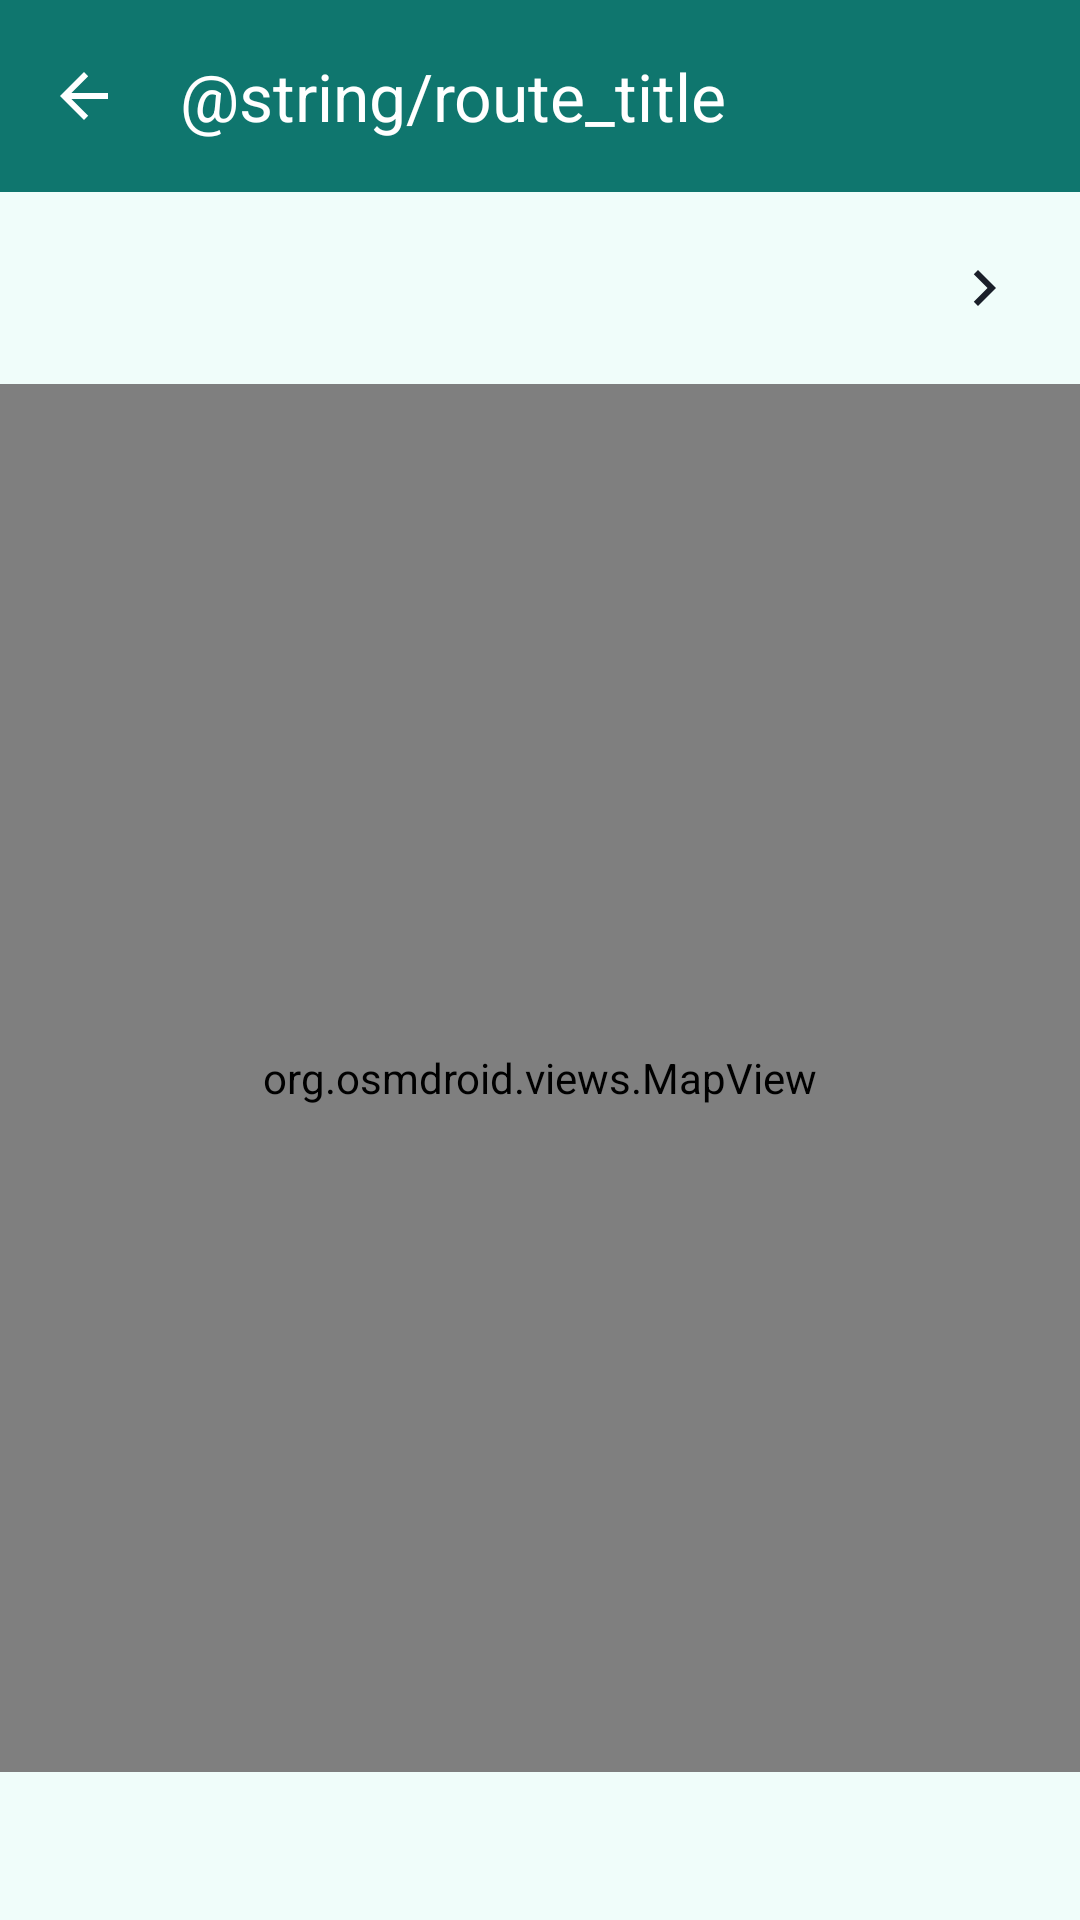

Screen size 1080x1920. Icon name, then its center in pixels as point (x, y):
Sonraki gün: point (985, 288)
